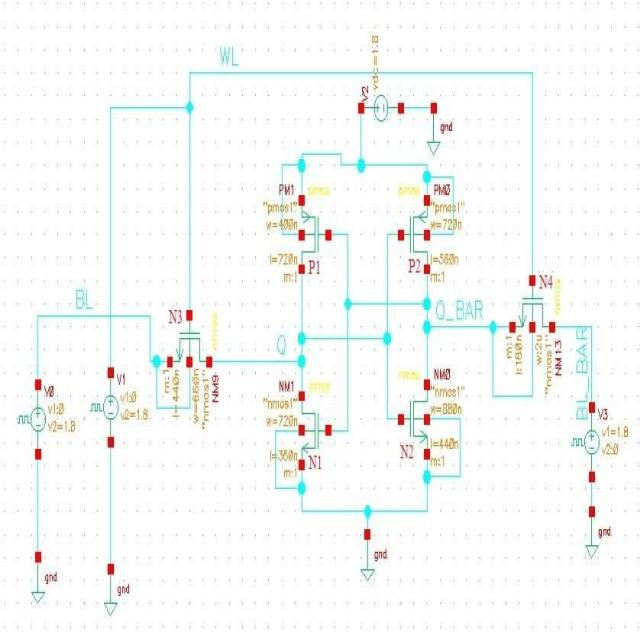nmos: (166, 309, 224, 372), (508, 272, 564, 334), (396, 367, 432, 460), (297, 381, 332, 472)
pmos: (394, 182, 432, 276), (298, 183, 335, 277)
vdc: (15, 378, 48, 468), (570, 403, 602, 490), (88, 365, 121, 448), (356, 84, 409, 132)
